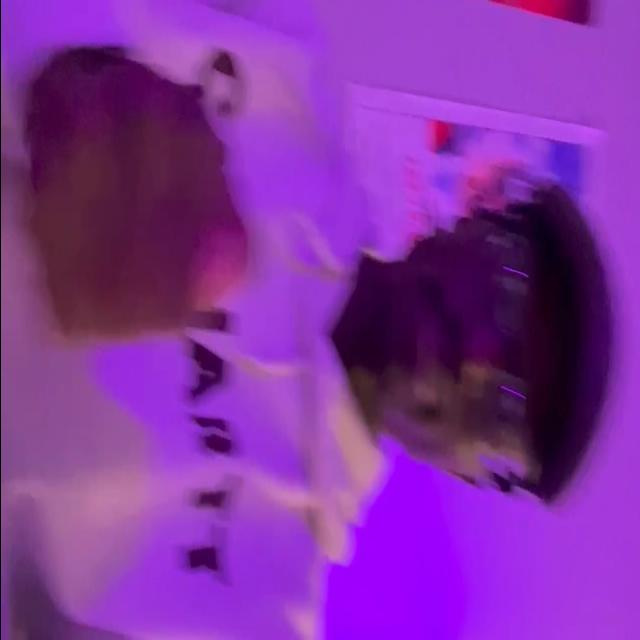Rock: (28, 51, 252, 342)
